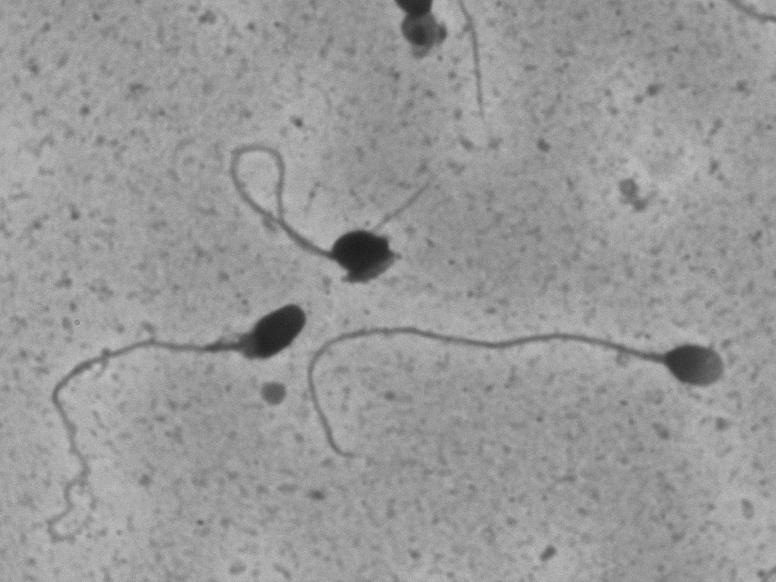Abnormal: (36, 299, 319, 557), (207, 113, 443, 292)
Normal: (293, 314, 750, 475)
